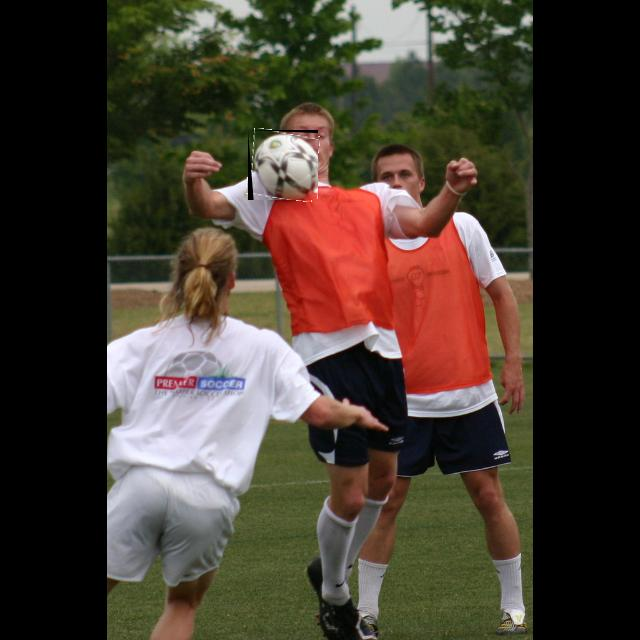Football: (248, 130, 318, 200)
